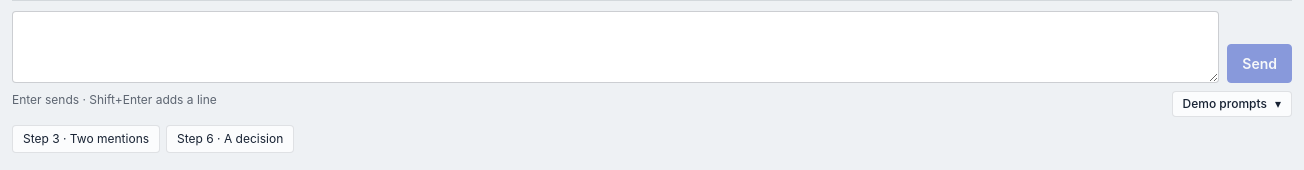
Composer: demo prompts › a click puts the exact text in the box, replacing a draft, without sending; the list stays
Type "a draft" into the text box named "Message Rosa" at coordinates (616, 47), box x1=12 y1=11 x2=1219 y2=83
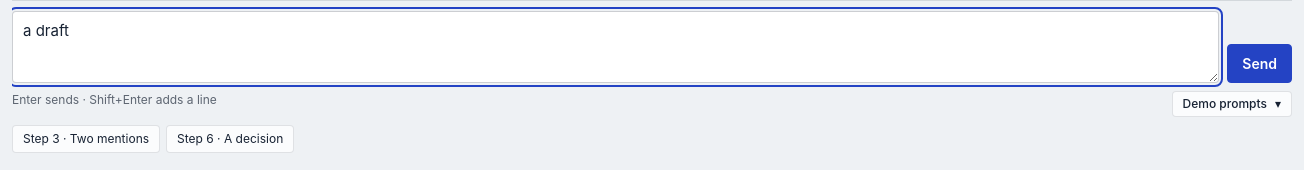
Click the button "Step 3 · Two mentions" at coordinates (86, 139), box x1=12 y1=125 x2=160 y2=153
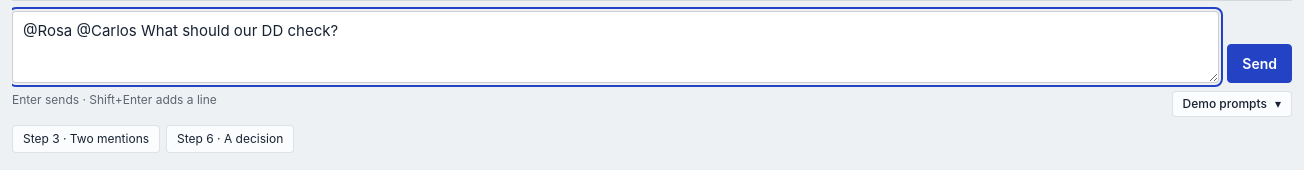
Expected: the element named "Demo prompts" is shown, x1=12 y1=125 x2=294 y2=153
Now the text box named "Message Rosa" holds "@Rosa @Carlos What should our DD check?", box x1=12 y1=11 x2=1219 y2=83
